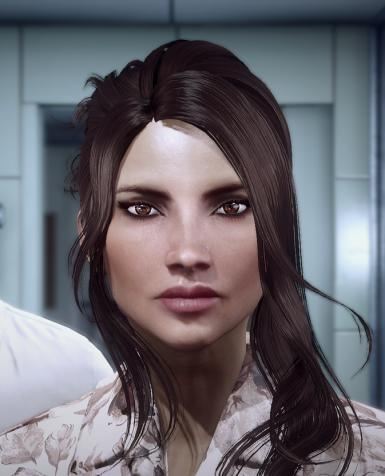Eyes: (115, 195, 169, 225), (206, 194, 256, 225)
